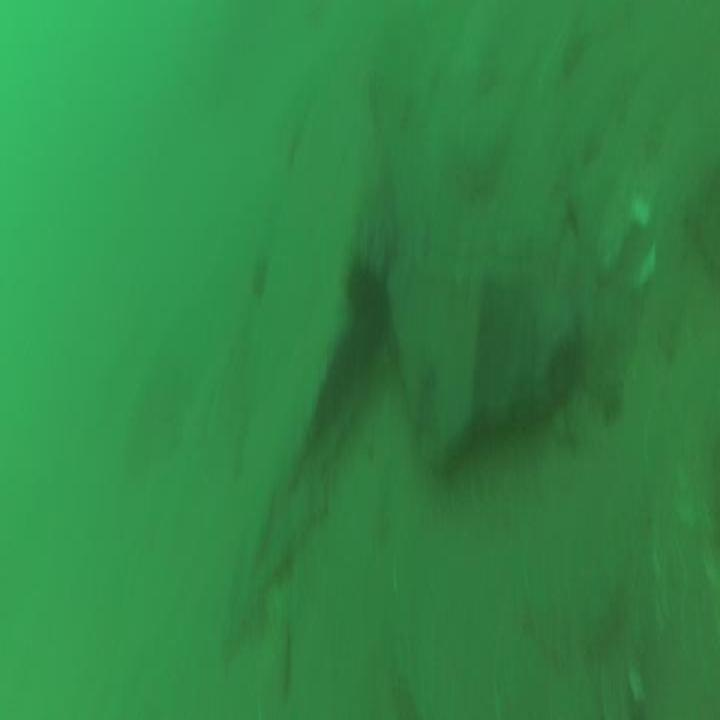echinus: (342, 250, 379, 332)
